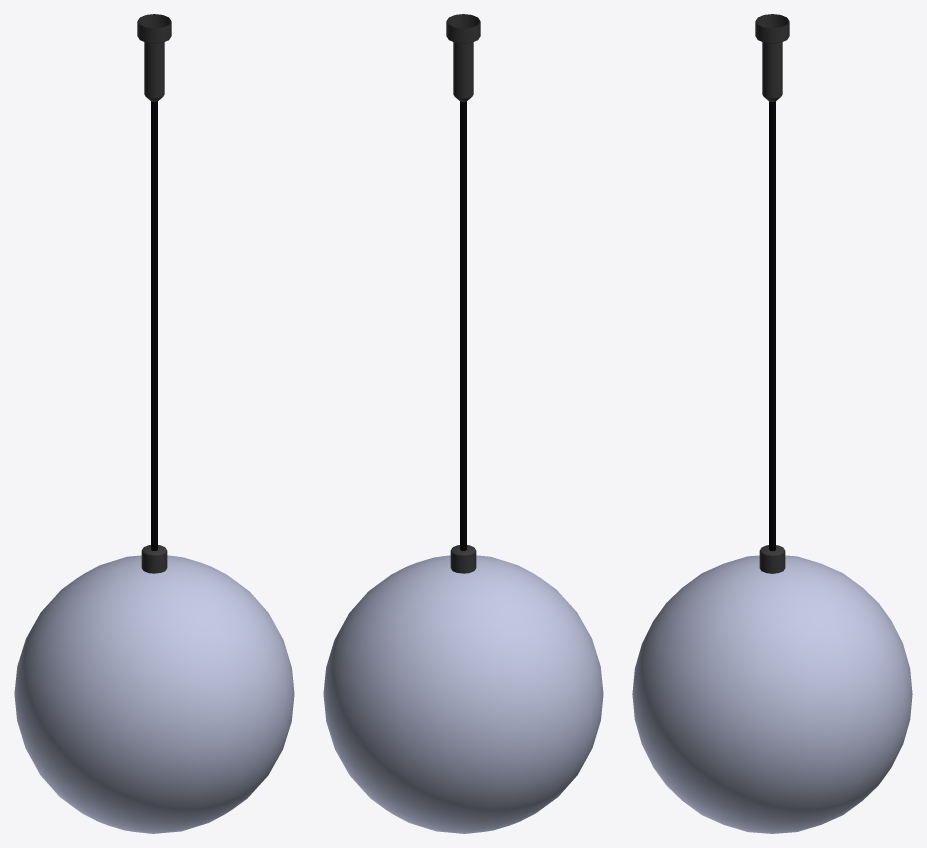
File: SM_PendantLight_009a.FBX
3 views of the same model, side by side, from view 1: azimuth 30°, elevation 25°; view 2: azimuth 150°, elevation 25°; view 3: azimuth 270°, elevation 25° (orthographic).
Parts seen in each view (by area): view 1: SM_PendantLight_009a; view 2: SM_PendantLight_009a; view 3: SM_PendantLight_009a.
Boxes of the visible parts, x1,y1,x2,y2 form: SM_PendantLight_009a: [14, 14, 294, 833]; SM_PendantLight_009a: [323, 14, 603, 833]; SM_PendantLight_009a: [632, 14, 912, 833].
Size of the model in its own units: 26.46 by 26.61 by 83.83.
